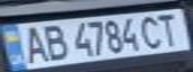4: (118, 15, 142, 52), (69, 19, 90, 57)
7: (87, 18, 106, 55)
8: (103, 17, 127, 53)
A: (15, 24, 51, 64)
B: (36, 21, 69, 62)
C: (136, 12, 166, 50)
T: (154, 10, 187, 47)
